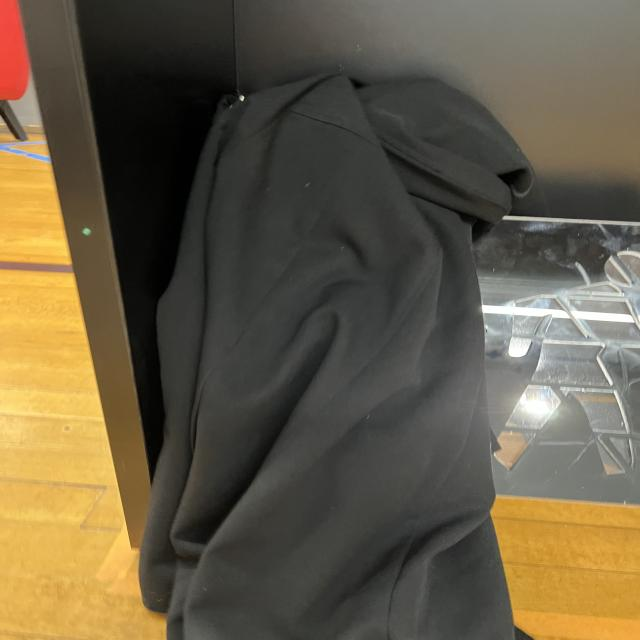go: (485, 217, 640, 501)
